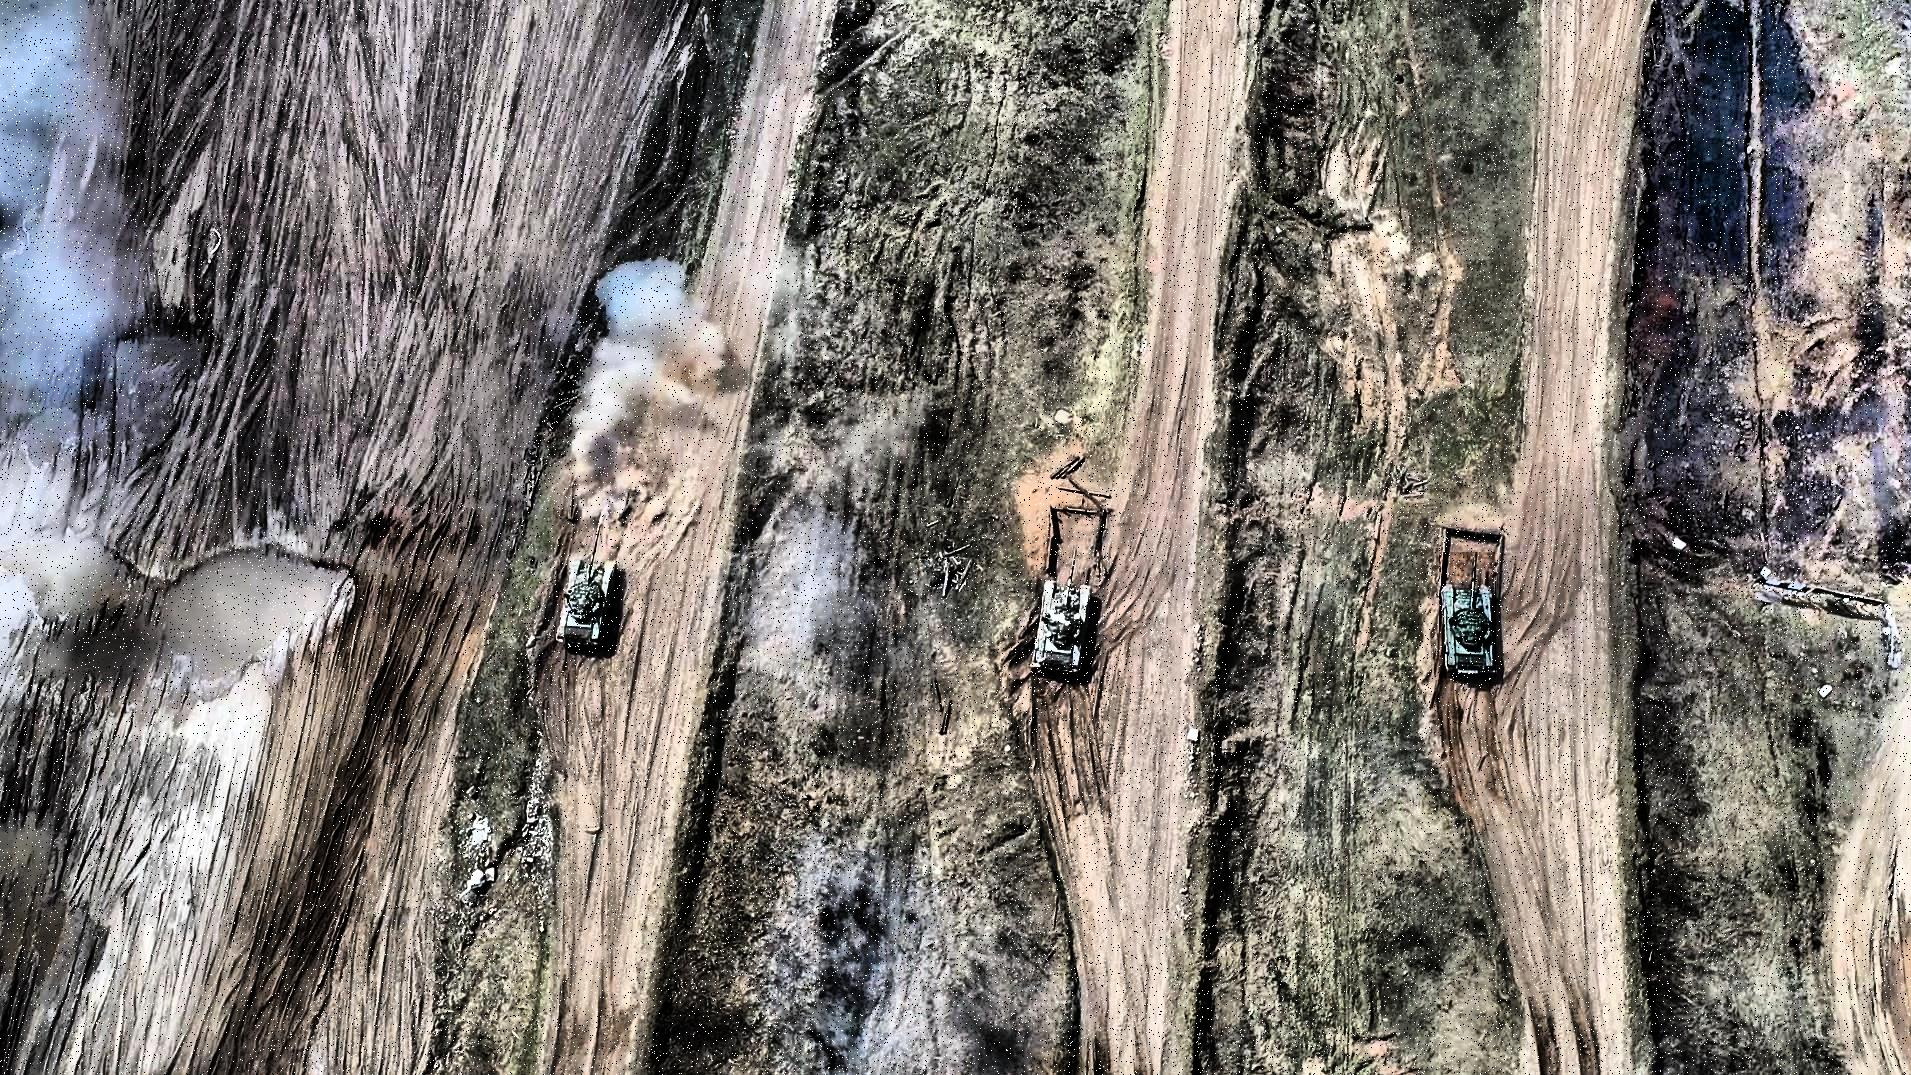military-vehicle: (554, 511, 619, 650), (1028, 554, 1099, 675), (1440, 551, 1496, 679)
